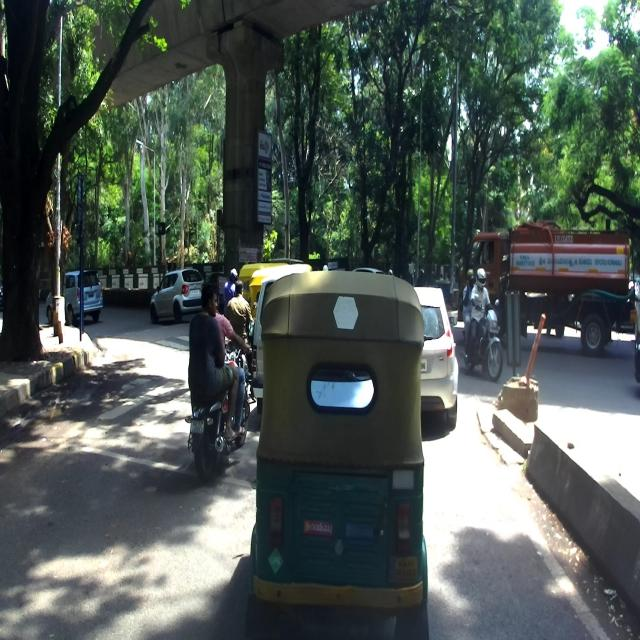autorickshaw: (245, 270, 428, 638)
motorcycle_Hero: (459, 298, 504, 382)
motorcycle_bajaj: (185, 322, 252, 479)
truck: (457, 215, 640, 358)
